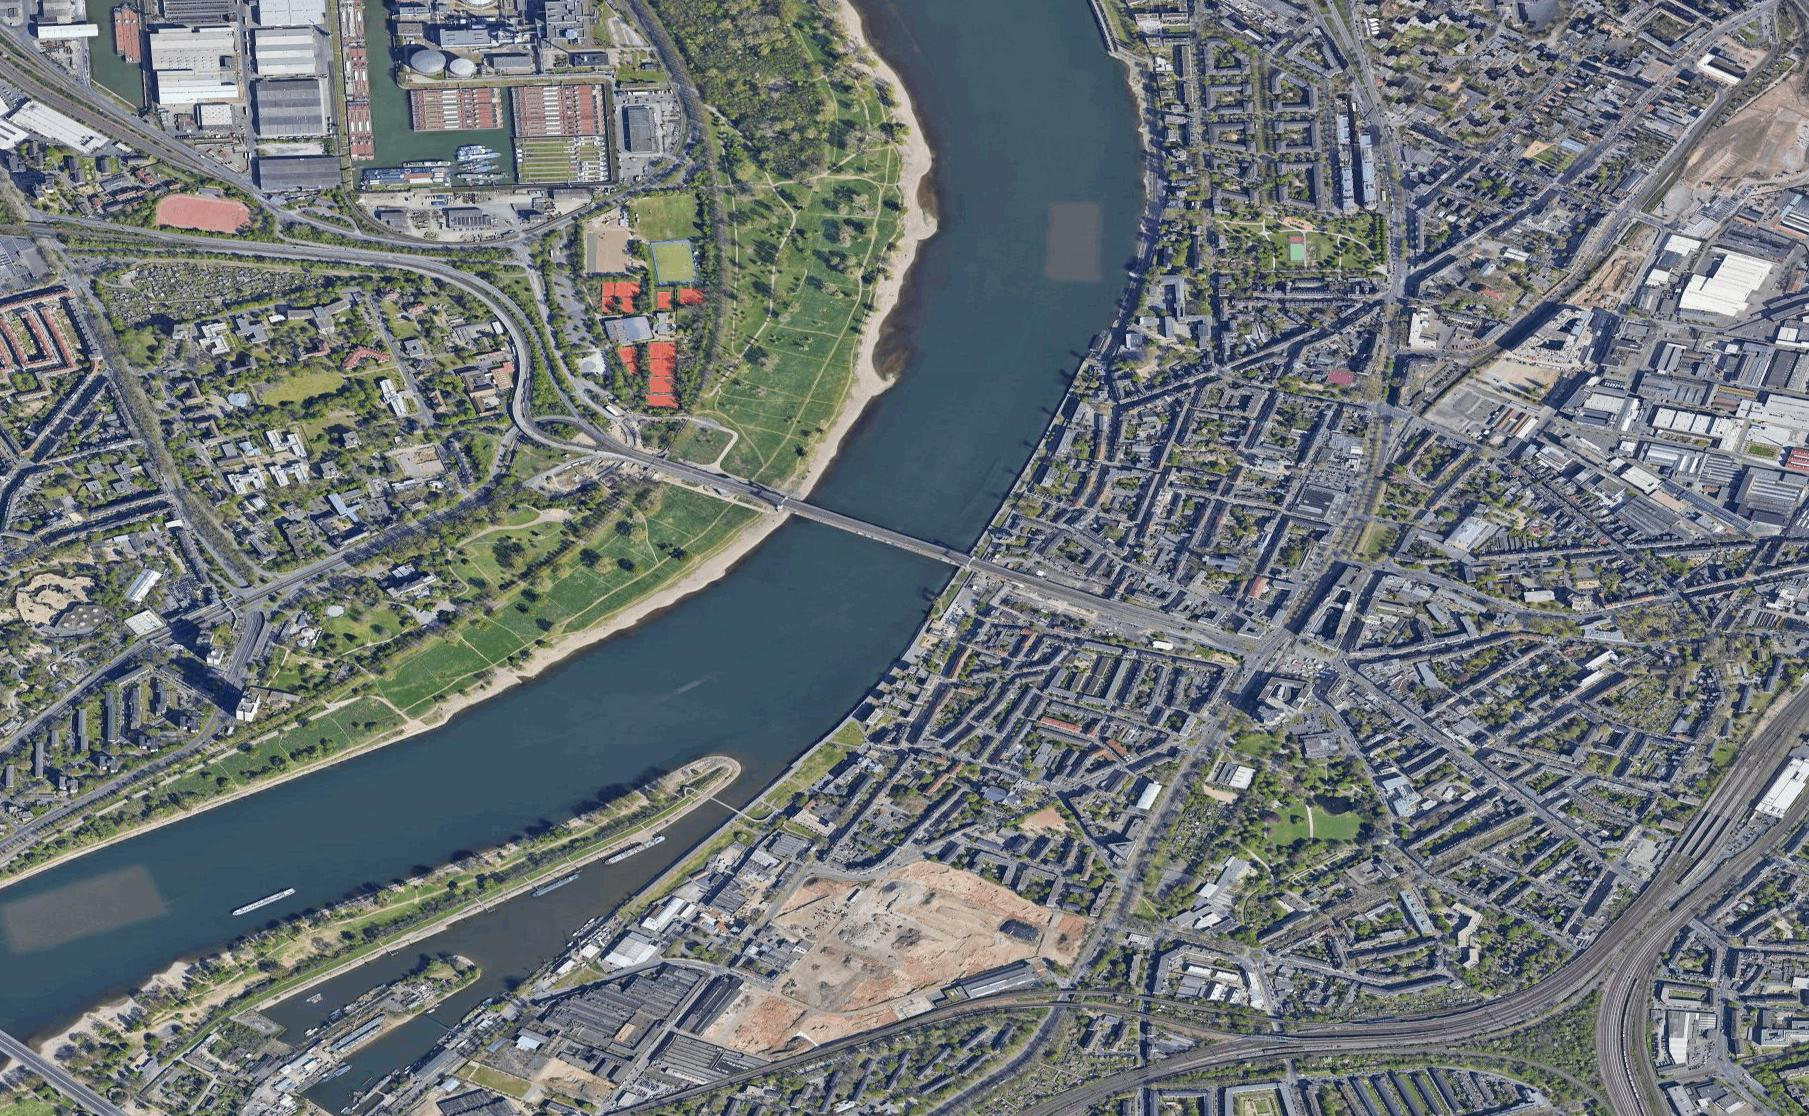bridge: (775, 488, 968, 573)
motorway: (853, 522, 1027, 589), (694, 468, 861, 537), (541, 406, 695, 479), (1023, 576, 1206, 637), (205, 223, 404, 274), (403, 253, 518, 329), (505, 323, 548, 440)
train_station: (1741, 726, 1809, 836)
